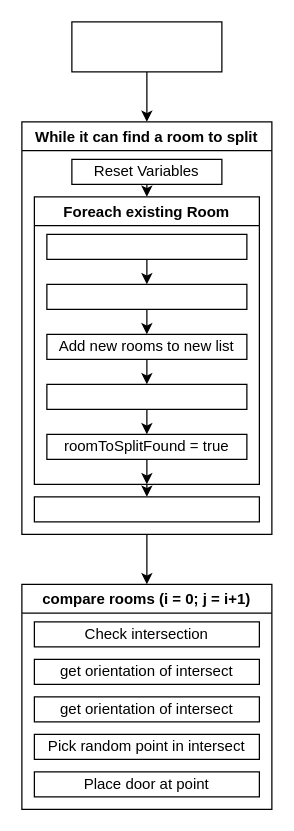
The diagram is 294 pixels wide and 831 high, and some of its shapes have lost their labels. Here are the shapes that lost their labels. From the top down, the centre of each, then its label:
point (146, 46): Create Initial Room
point (146, 246): Check orientation and size
point (146, 296): Pick random wall position
point (146, 396): Remove Old room
point (146, 509): Add the created rooms
